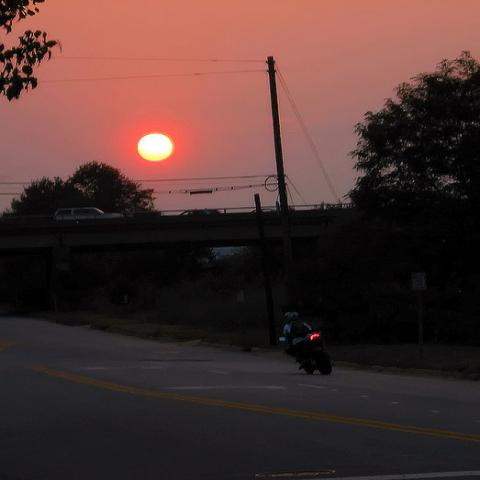car: (55, 207, 125, 219), (178, 210, 220, 214), (248, 208, 276, 214)
motorcycle: (293, 321, 331, 374)
